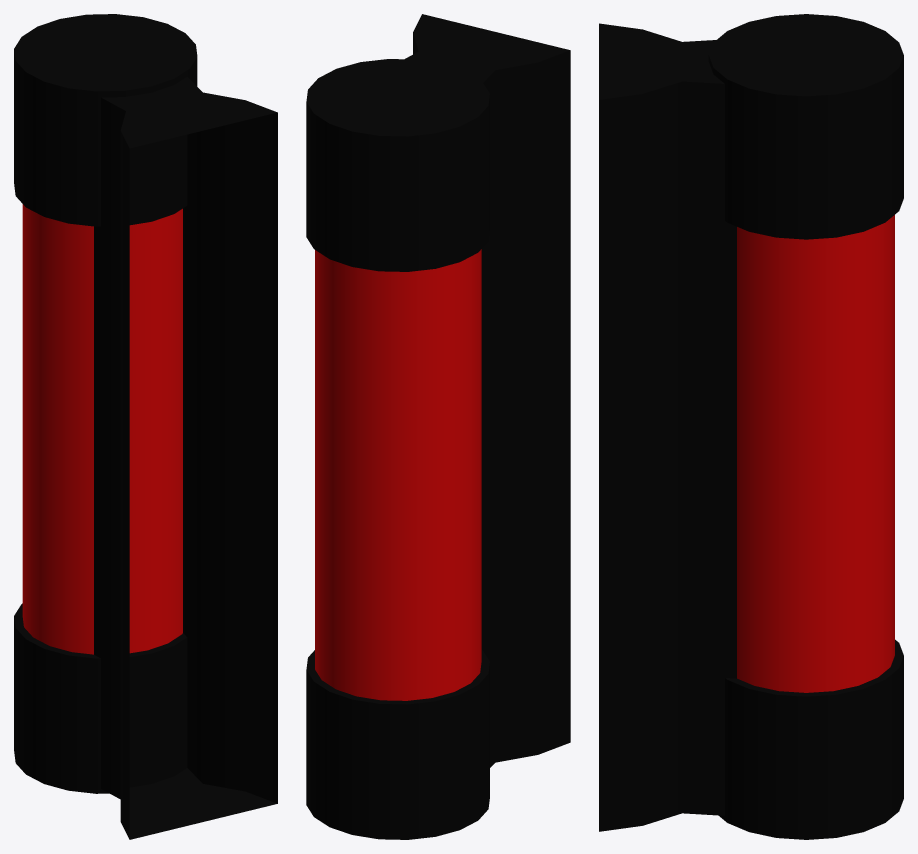
File: SM_WallSconce_Short.fbx
3 renders of one model, left to right at view 1: azimuth 30°, elevation 25°; view 2: azimuth 150°, elevation 25°; view 3: azimuth 270°, elevation 25°, orthographic. The views are drawn at different scales.
Parts seen in each view (by area): view 1: SM_WallSconce_Short; view 2: SM_WallSconce_Short; view 3: SM_WallSconce_Short.
Boxes of the visible parts, x1,y1,x2,y2 form: SM_WallSconce_Short: (14, 14, 277, 839); SM_WallSconce_Short: (306, 14, 570, 839); SM_WallSconce_Short: (599, 14, 903, 839).
Bounding box in the file's own units: 1.08 × 4.53 × 1.68.
